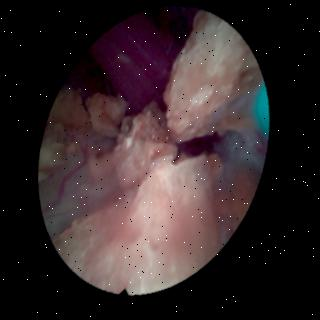stone: (57, 105, 221, 293), (166, 13, 261, 143), (42, 91, 124, 180), (217, 172, 257, 231)
